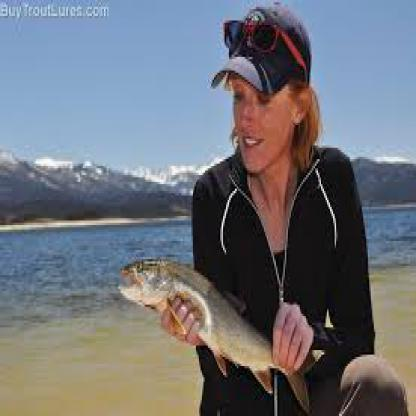fish: (113, 258, 321, 414)
